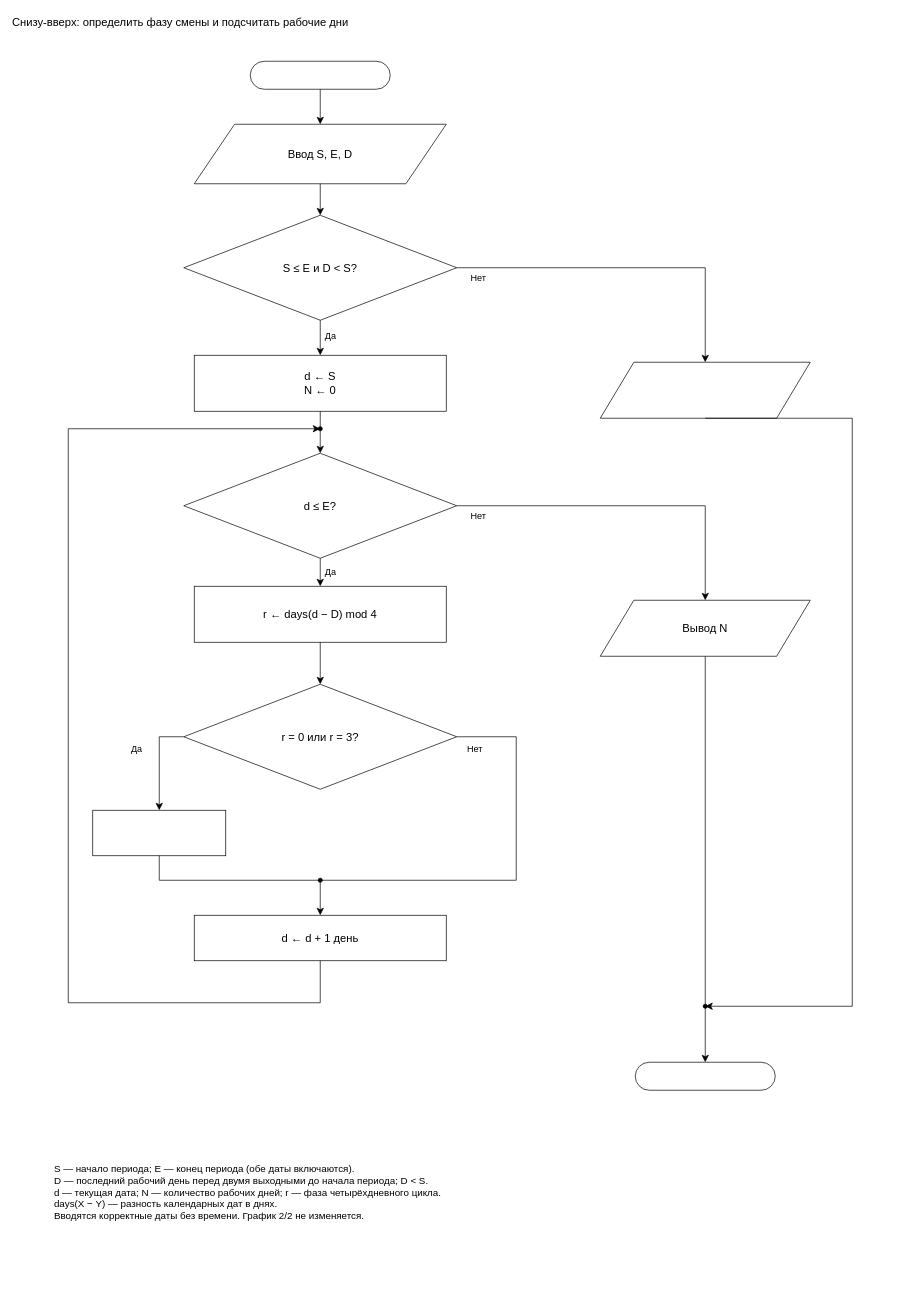
Some shapes in this 906 by 1305 pixel diagram are drawn without their labels. The centre of each missing label's shape, as x and y in pixels:
"N ← N + 1" belongs at point (159, 833).
"Вывод: «Ошибка входных дат»" belongs at point (705, 390).
"Конец" belongs at point (705, 1076).
"Начало" belongs at point (320, 75).
